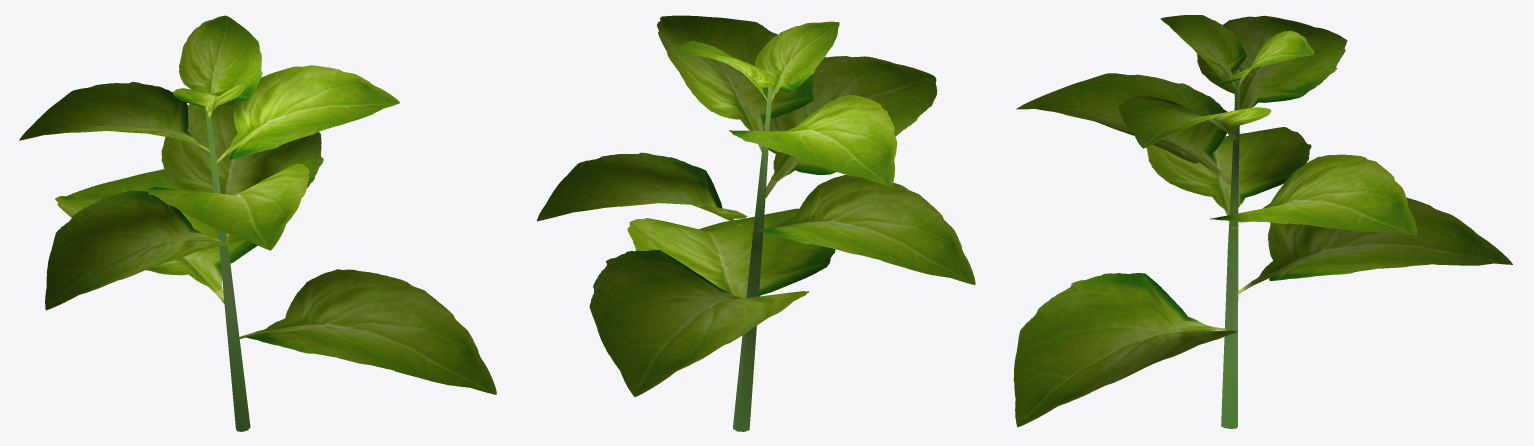
Rendered from Oregano.fbx.
The picture shows the model from 3 angles, left to right: view 1: azimuth 30°, elevation 25°; view 2: azimuth 150°, elevation 25°; view 3: azimuth 270°, elevation 25°; orthographic projection. The views are drawn at different scales.
Visible parts, largest first — view 1: oregano; view 2: oregano; view 3: oregano.
Boxes of the visible parts, x1,y1,x2,y2 form: oregano: [19, 15, 496, 431]; oregano: [537, 15, 975, 431]; oregano: [1013, 15, 1512, 428].
Size of the model in its own units: 10.19 by 9.98 by 11.84.
